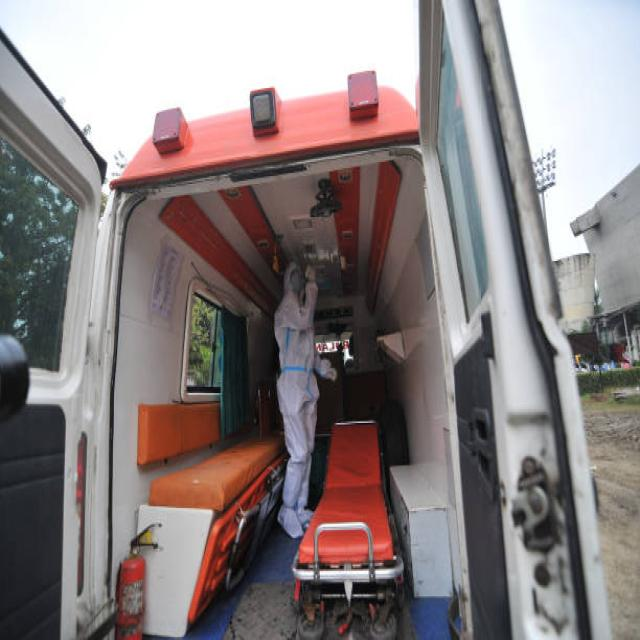ambulance: (1, 0, 614, 640)
